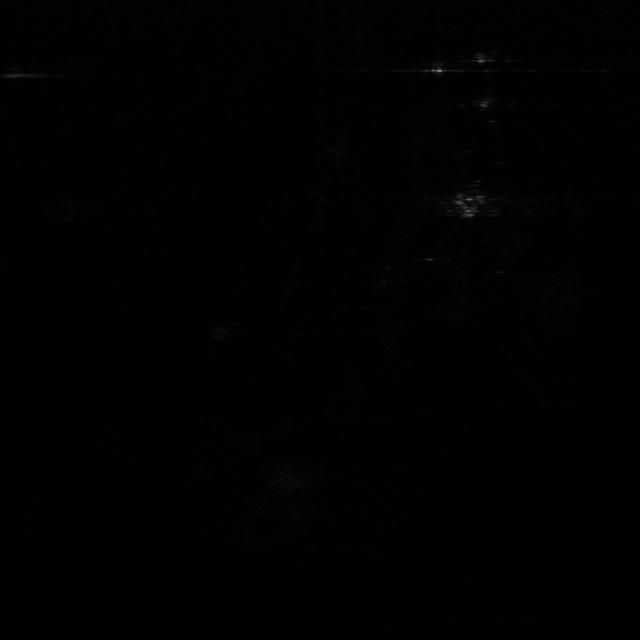rov: (454, 194, 494, 220)
